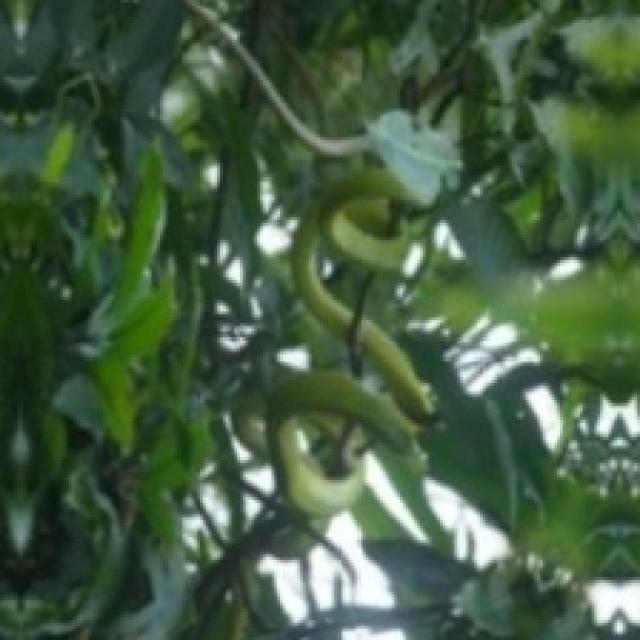red-tailed green ratsnake: (271, 171, 431, 511), (291, 171, 431, 414), (237, 371, 414, 514), (346, 234, 406, 266)
